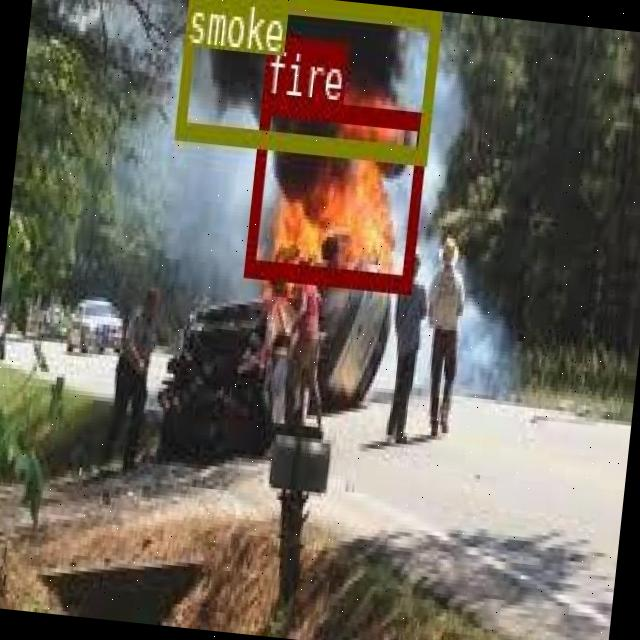fire: (244, 93, 426, 290)
smoke: (173, 0, 441, 159)
